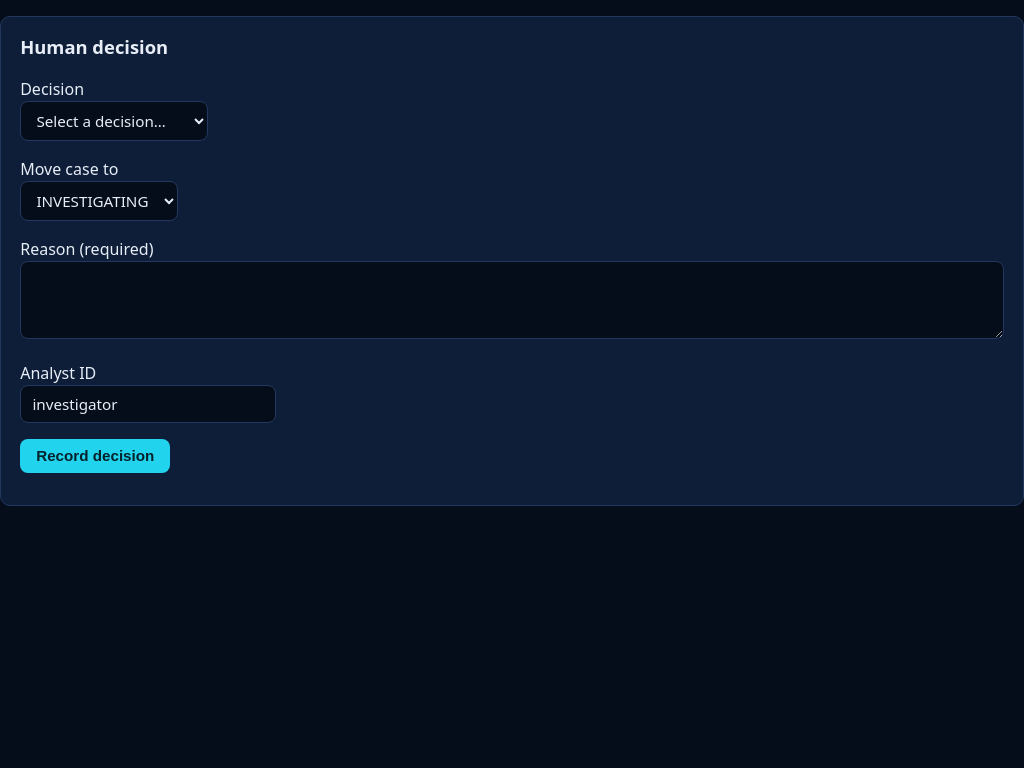
Test case: DecisionForm › shows server validation errors honestly
Select "Escalate" in the dropdown labelled "Decision": {"x": 114, "y": 121} 20,101 -> 208,141
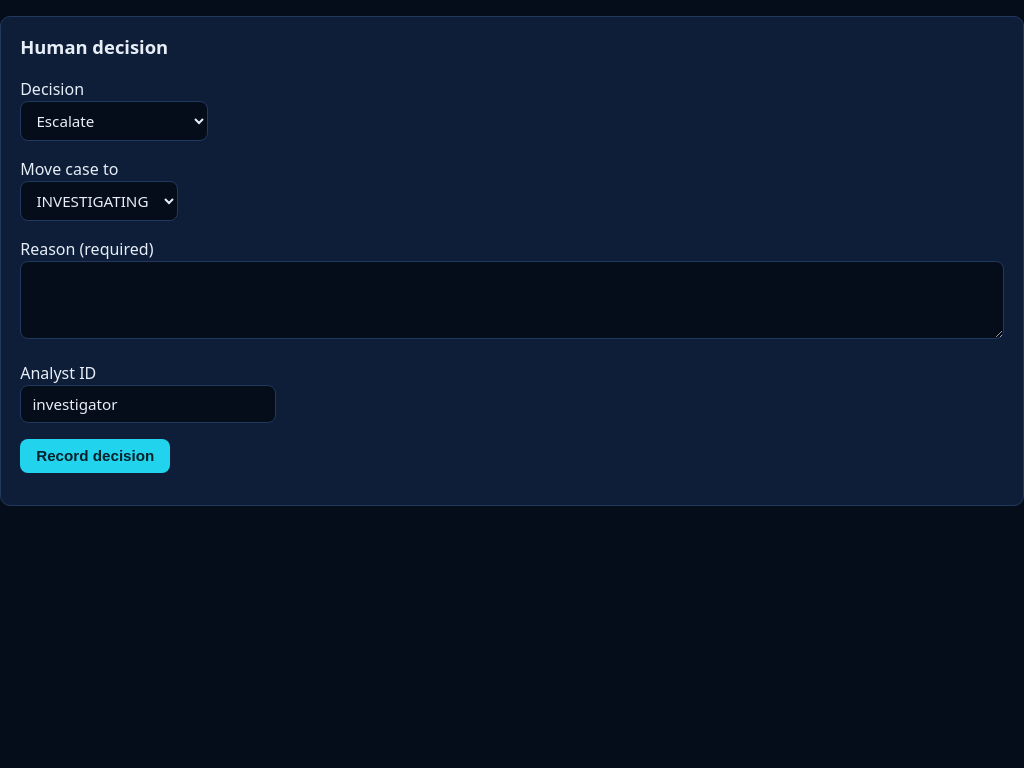
In the text box labelled "Reason (required)": {"x": 512, "y": 300} 20,261 -> 1004,339, type "x"
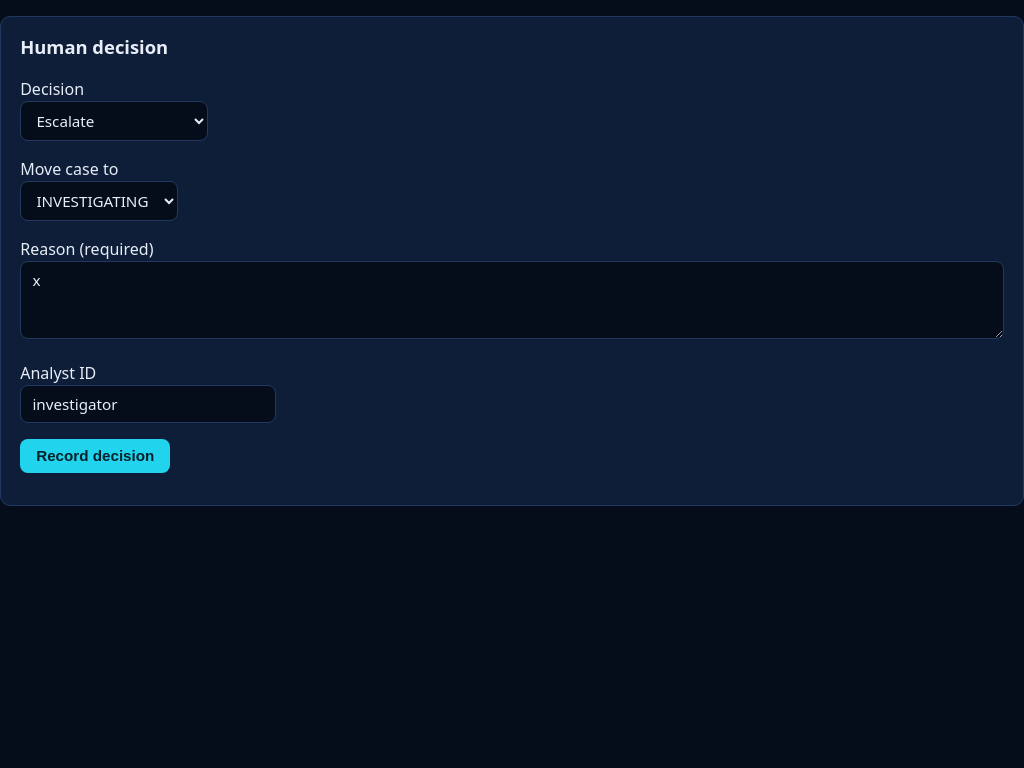
Click the button "Record decision": {"x": 95, "y": 456} 20,439 -> 170,473
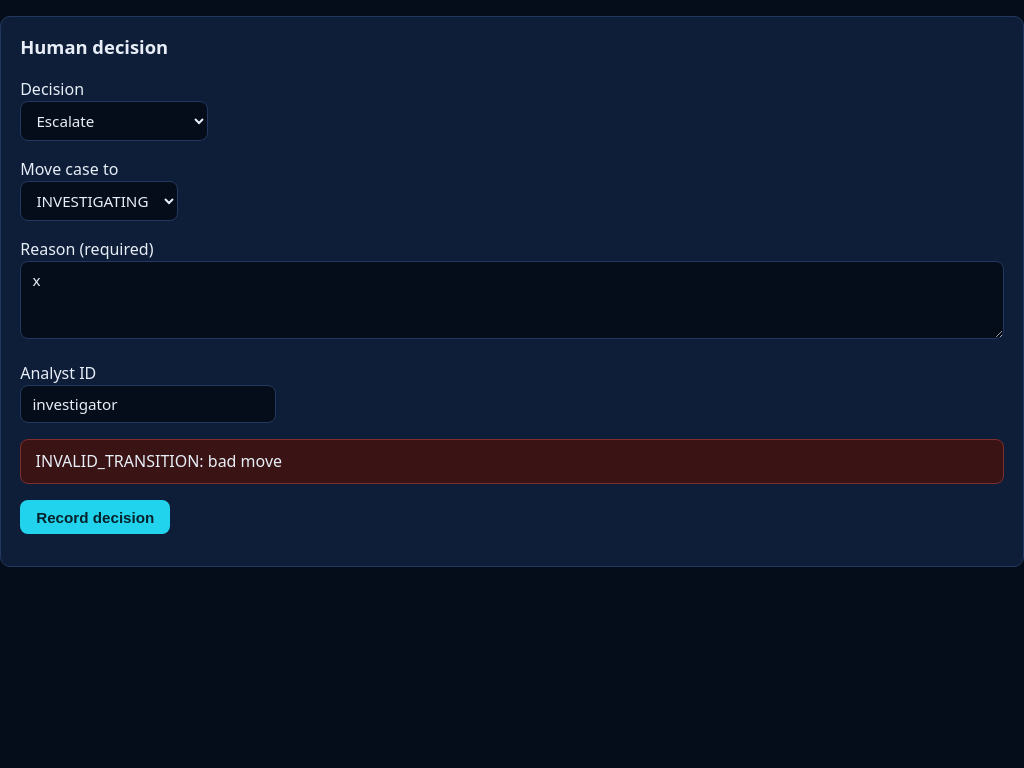
Expected: the text "INVALID_TRANSITION: bad move" is shown, 20,439 -> 1004,484
